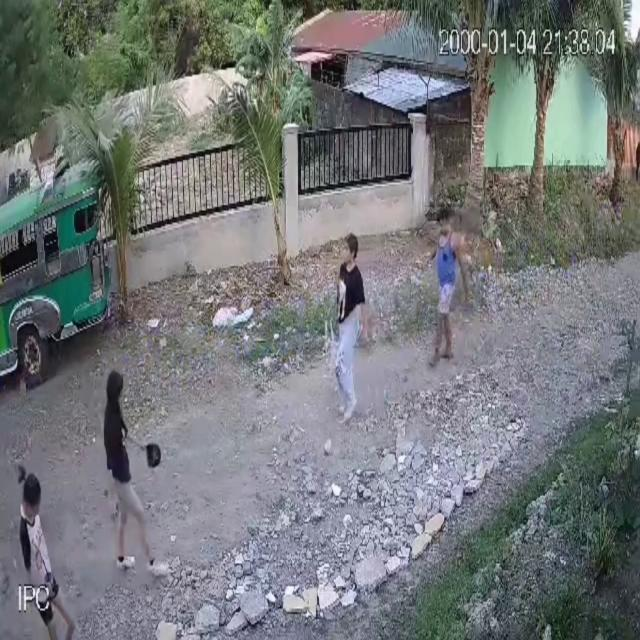walking: (95, 366, 167, 585), (12, 460, 77, 640), (425, 200, 476, 370), (332, 226, 375, 424)
